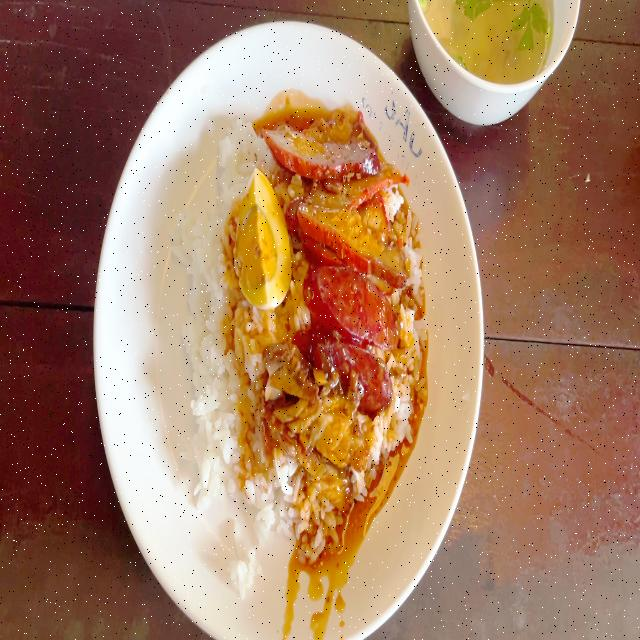boiled_egg: (240, 196, 288, 316)
chainese_sausage: (310, 285, 401, 407)
crispy_pork: (290, 428, 373, 533), (269, 359, 307, 455)
red_pork: (283, 133, 411, 256)
red_pork_and_crispy_pork: (178, 134, 414, 548)
rice: (186, 322, 265, 554), (186, 218, 227, 327), (213, 130, 257, 198)
